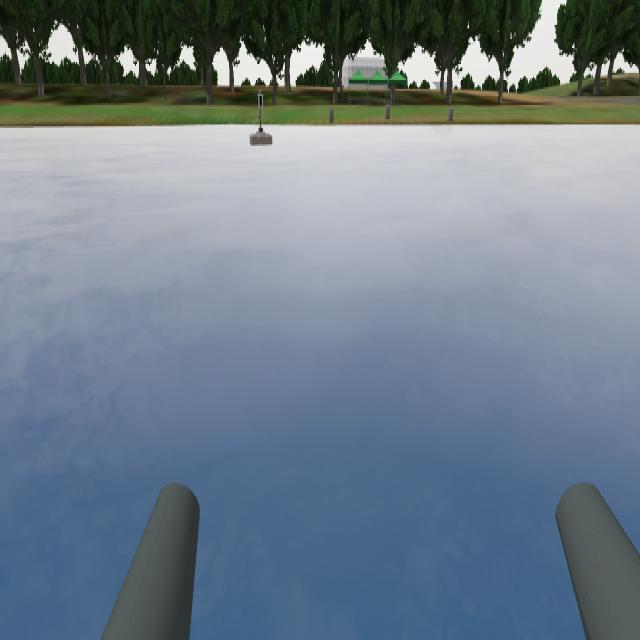black_pole: (252, 88, 268, 112)
